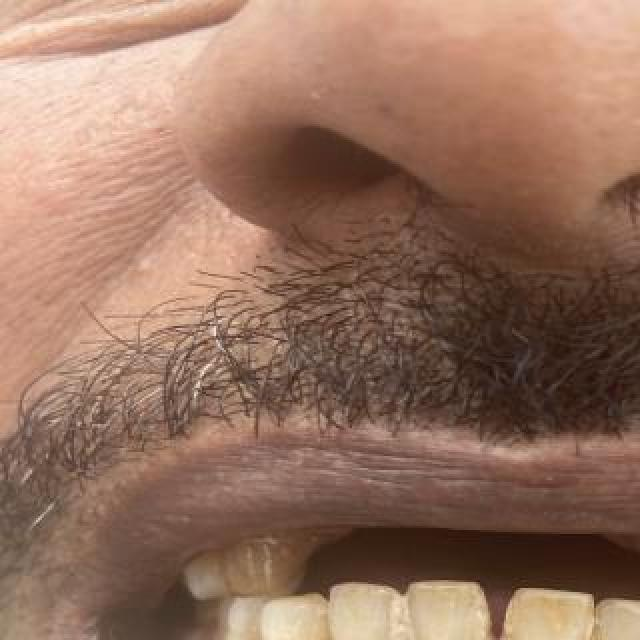calculus: (498, 582, 590, 640), (316, 590, 414, 640), (388, 594, 490, 640), (582, 598, 640, 640)
missing: (529, 505, 625, 595), (301, 514, 397, 594), (418, 504, 508, 586), (620, 514, 640, 608)
spacing: (472, 582, 530, 640)
